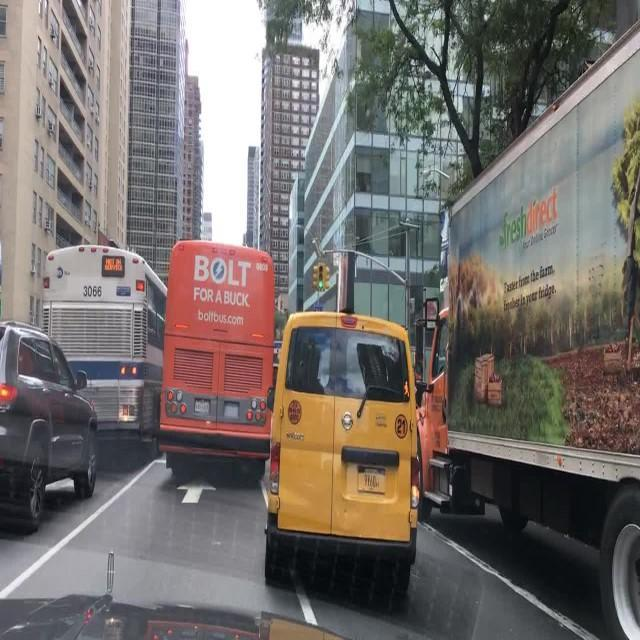normal: (415, 78, 640, 628), (264, 306, 428, 603), (1, 320, 102, 536)
